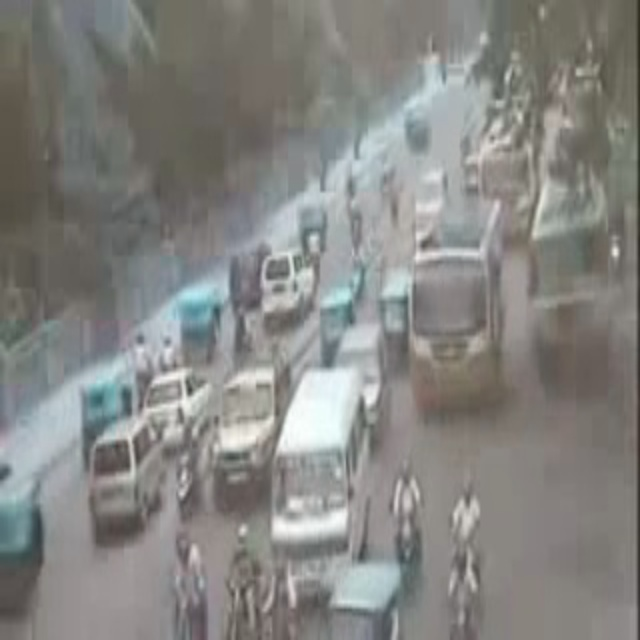acc: (248, 543, 349, 640)
